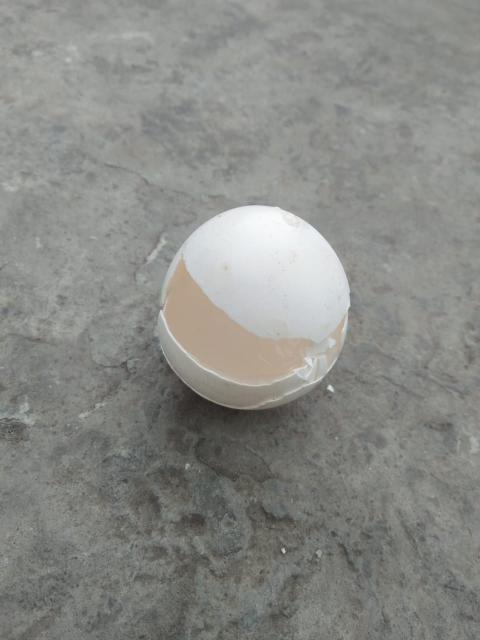Roto: (156, 203, 351, 410)
